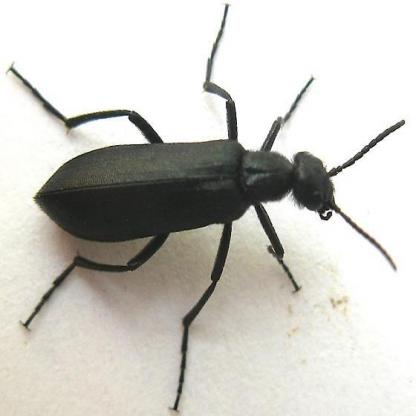beetle: (4, 30, 392, 388)
